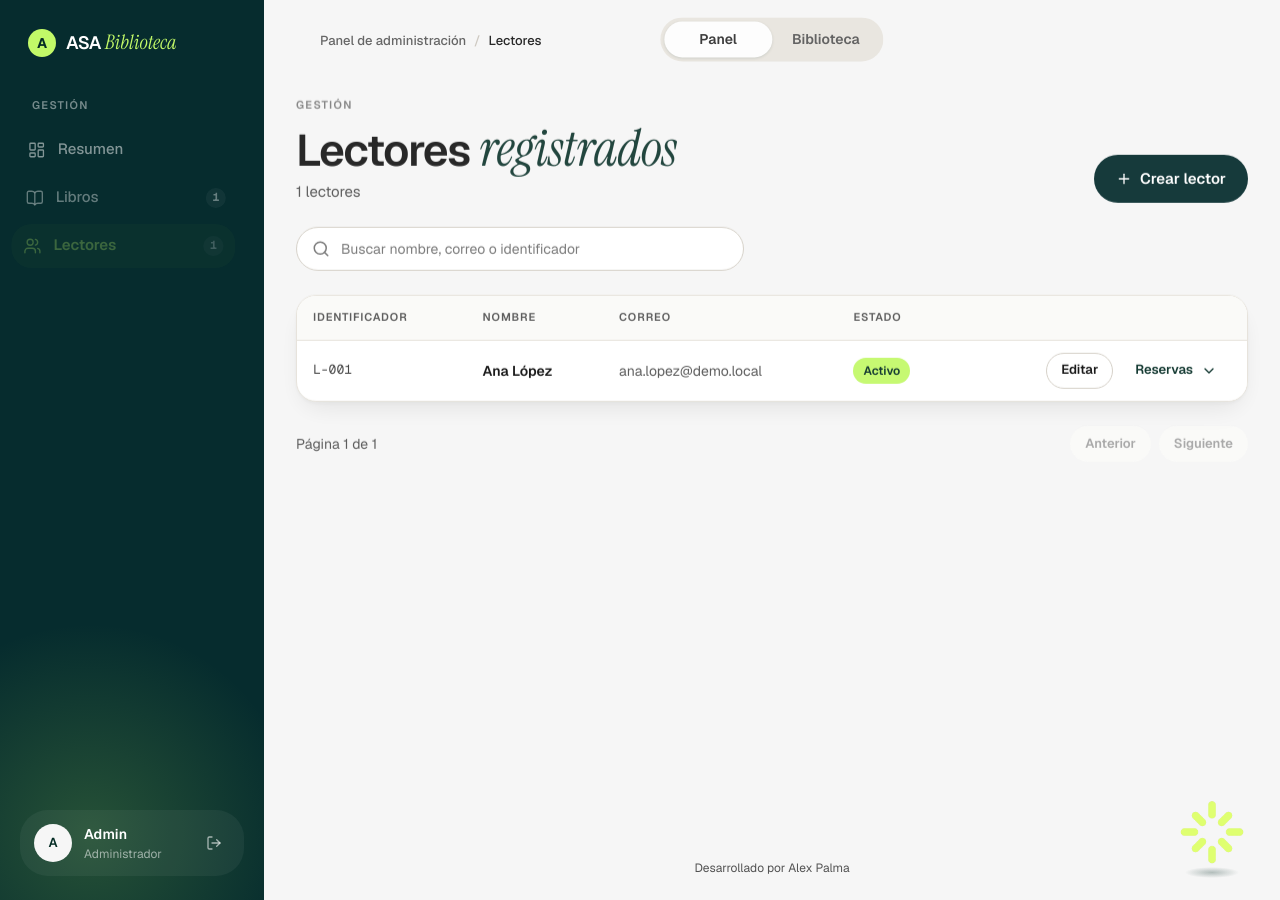
Test: admin: crear lector › al crear, el modal cierra y la fila nueva aparece sin recargar
The image size is (1280, 900).
Expected: the text "Ana López" is shown, [467, 340, 603, 400]
Click the button "Crear lector" at (1171, 179), box [1094, 155, 1248, 203]
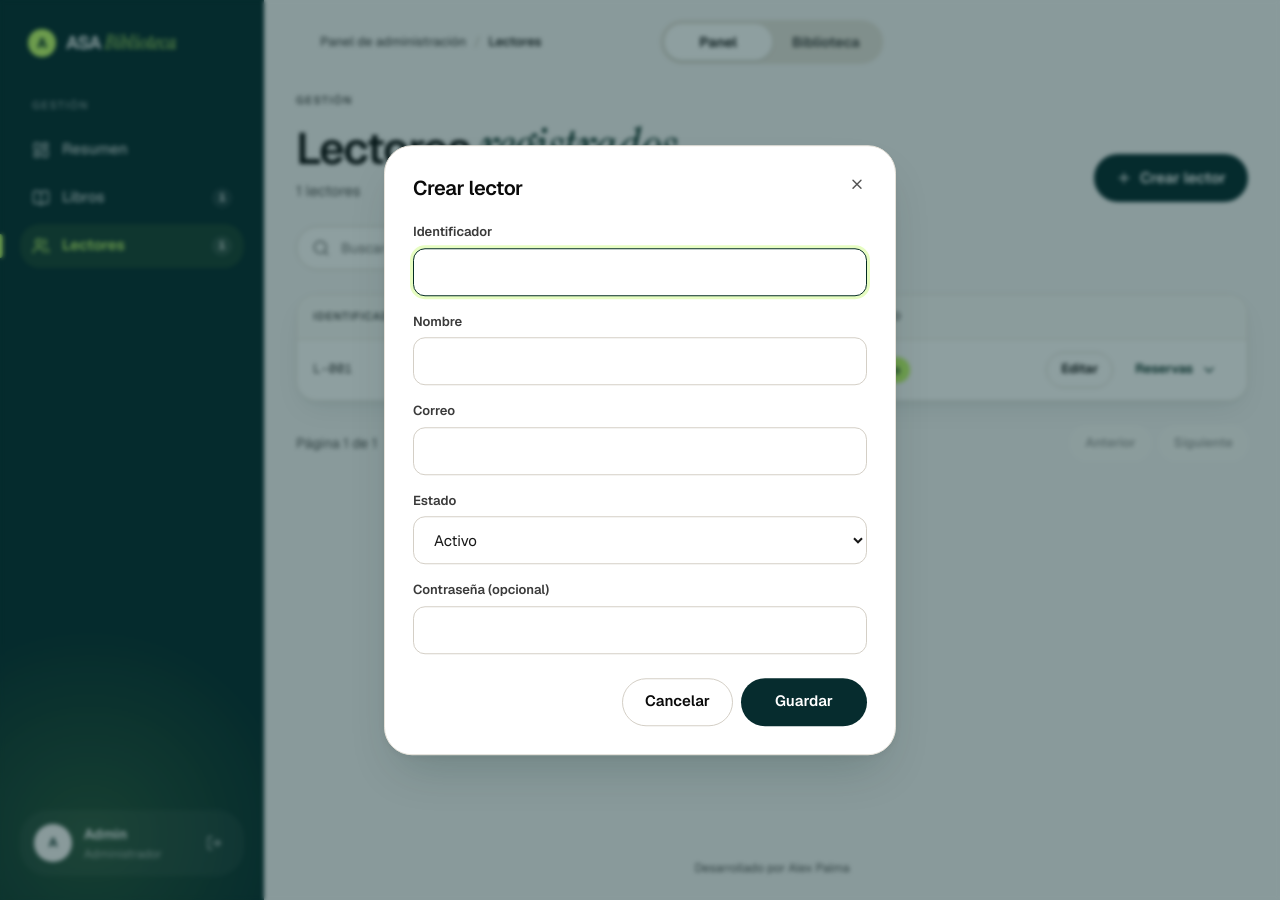
Type "L-002" into the field labelled "Identificador" at (640, 272), box [413, 248, 867, 296]
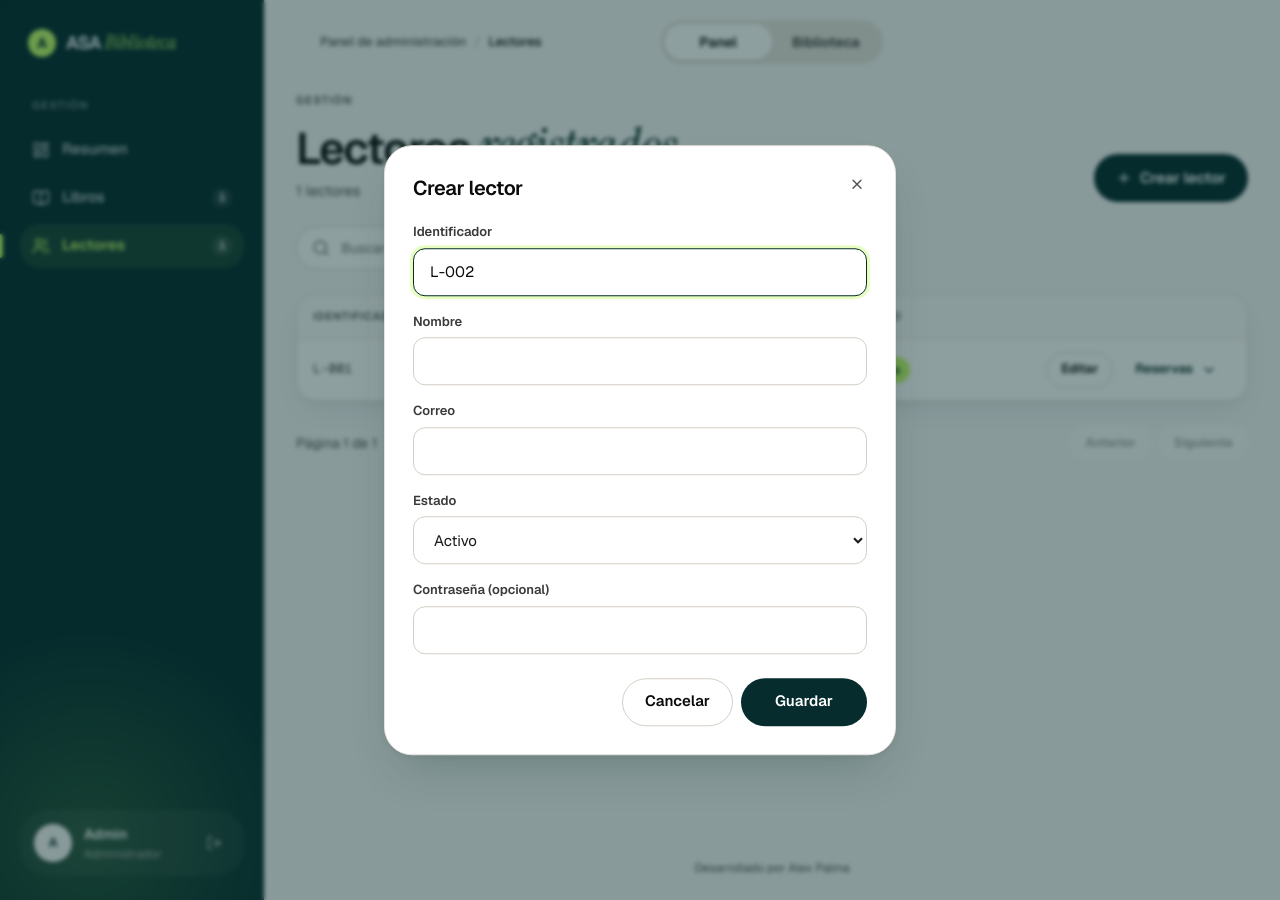
Type "Bruno Díaz" into the field labelled "Nombre" at (640, 361), box [413, 337, 867, 385]
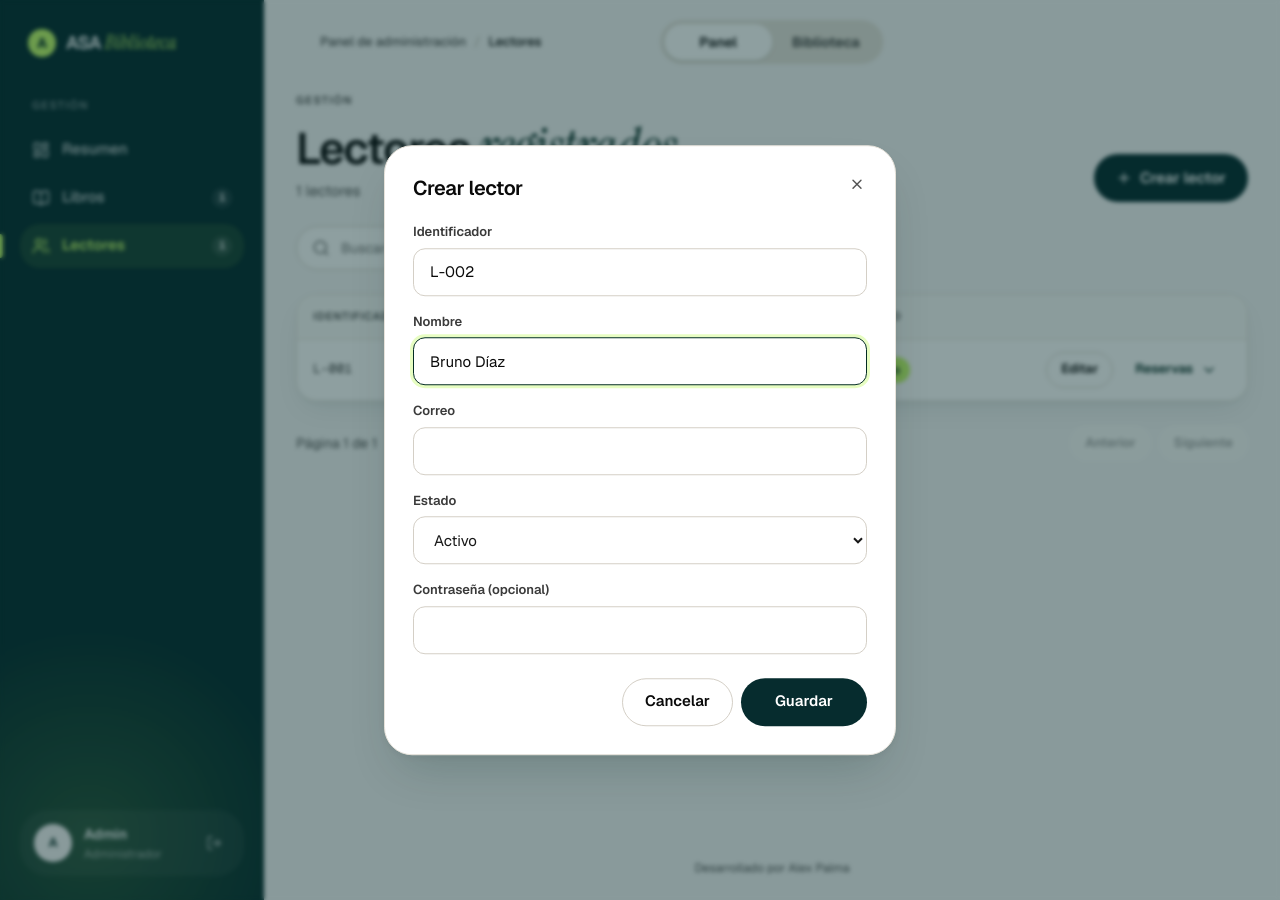
Type "bruno.diaz@demo.local" into the field labelled "Correo" at (640, 451), box [413, 427, 867, 475]
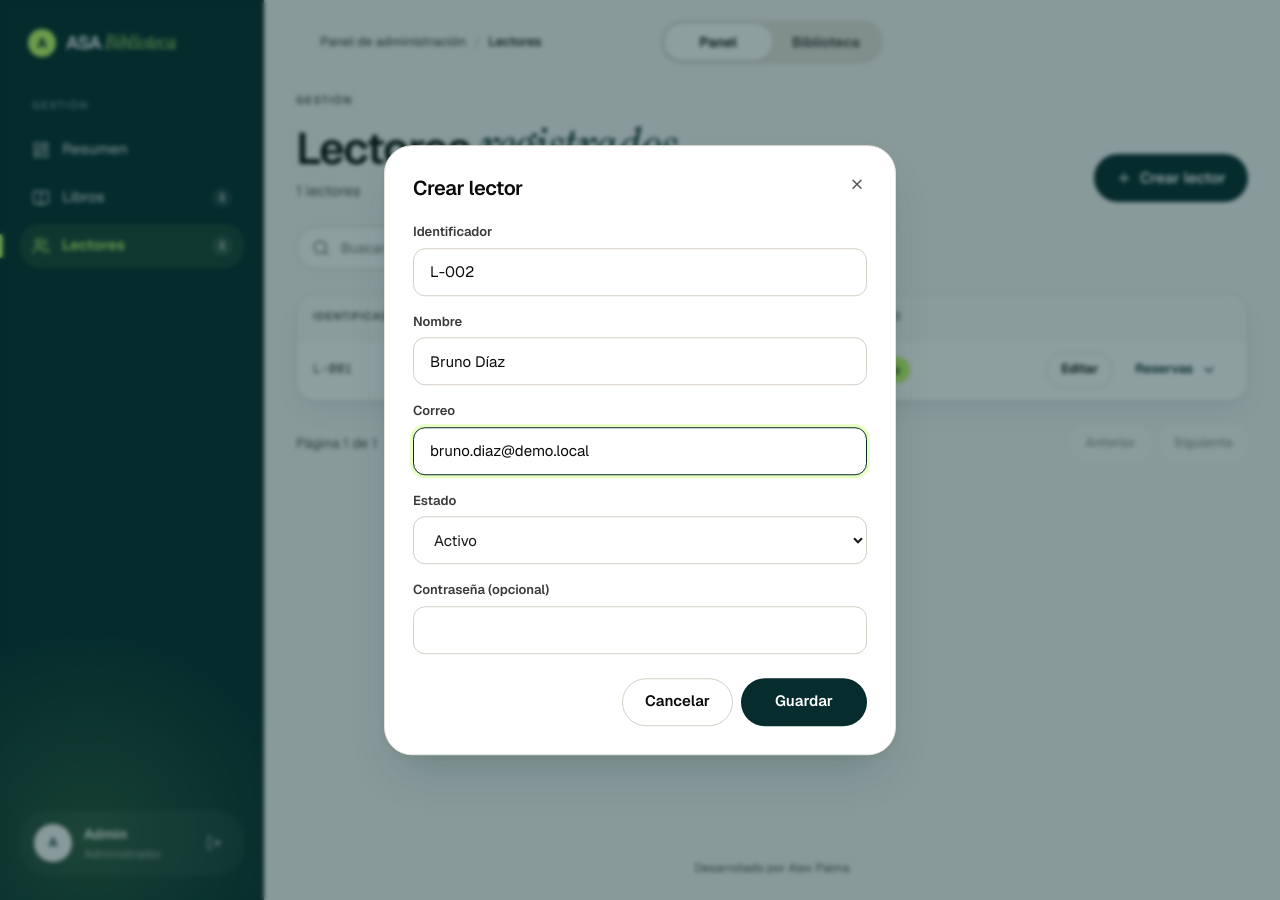
Click the button "Guardar" at (804, 702), box [741, 678, 867, 726]
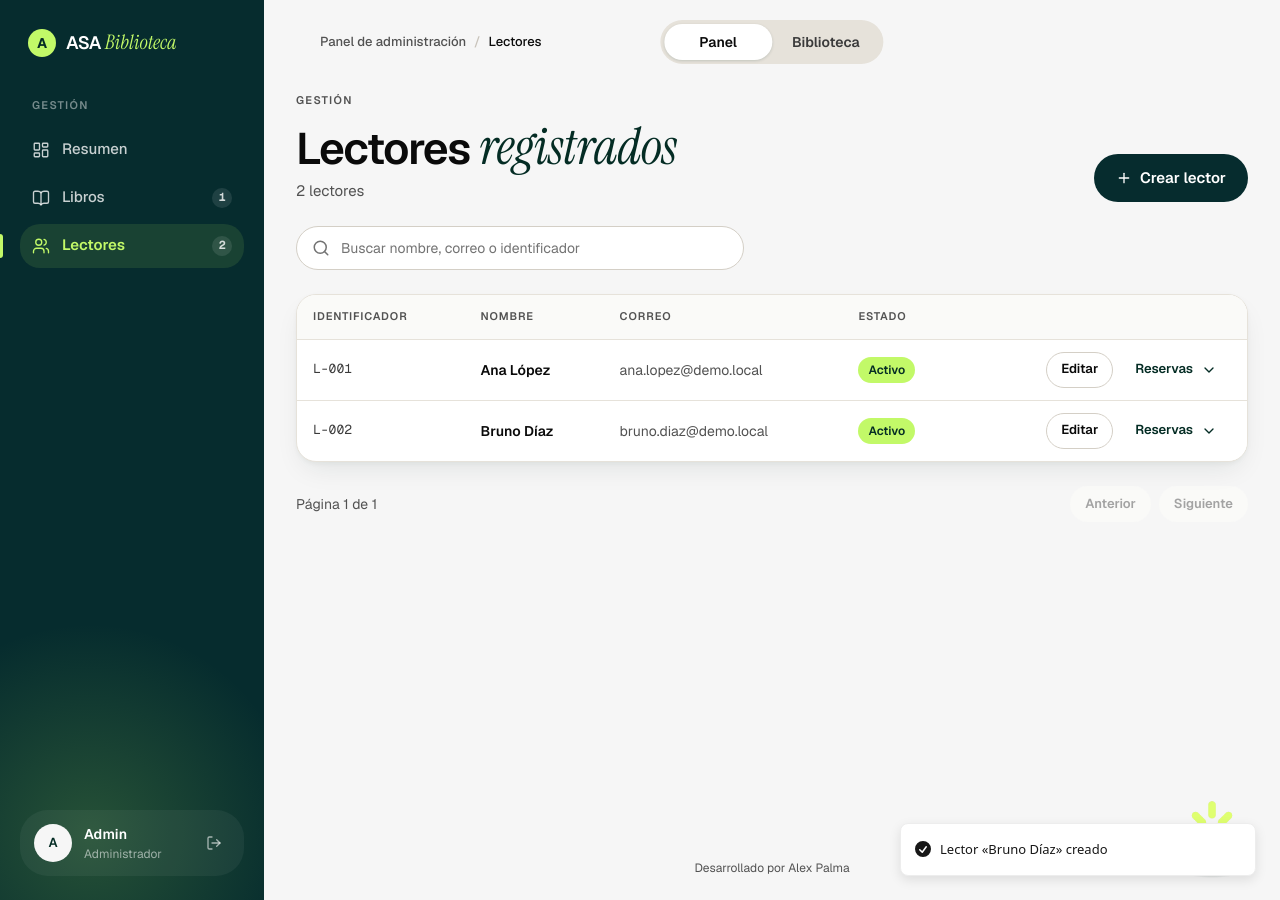
Now the cell "Bruno Díaz" is shown, box [464, 400, 604, 460]
Now the text "2 lectores" is shown, box [296, 180, 364, 200]
